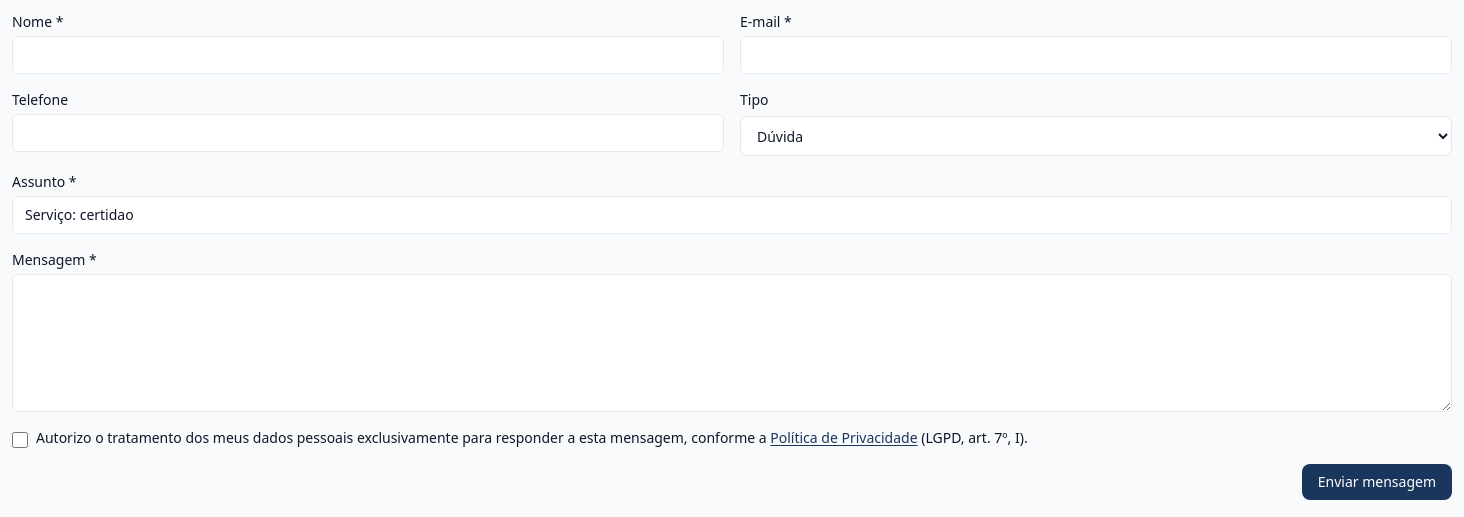
ContactForm › envia pelo proxy público com consentimento e mostra o protocolo
Clear the field labelled "Assunto *" at (732, 215), box [12,196,1452,234]
Type "Maria Silva" into the field labelled "Nome *" at (368, 55), box [12,36,724,74]
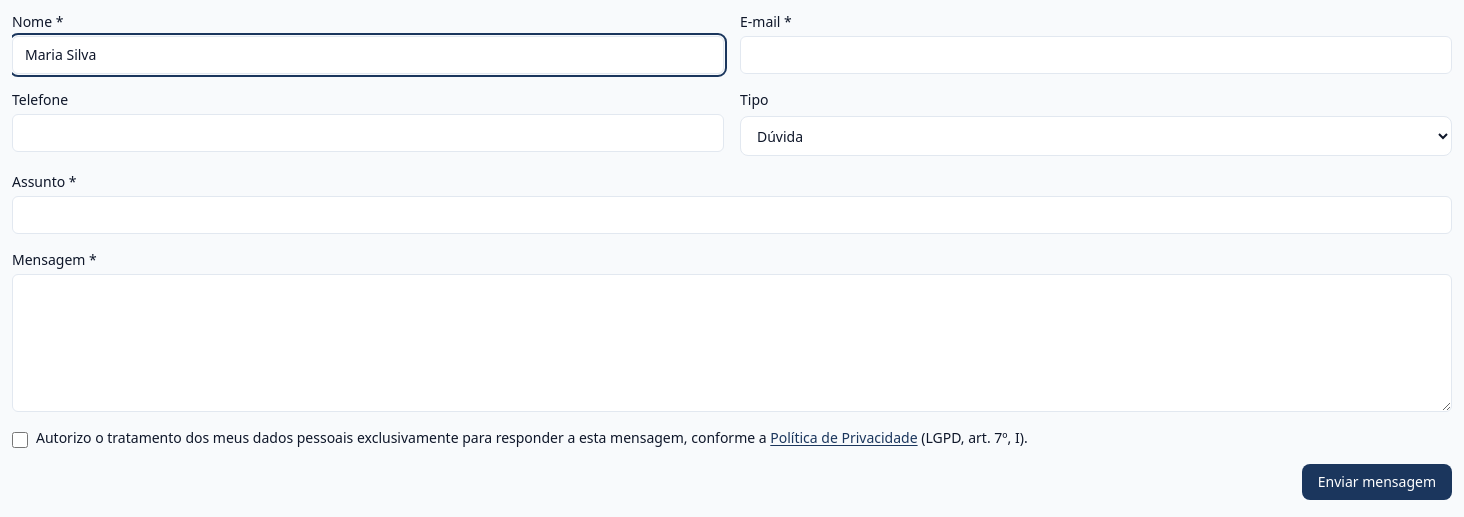
Type "maria@example.com" into the field labelled "E-mail *" at (1096, 55), box [740,36,1452,74]
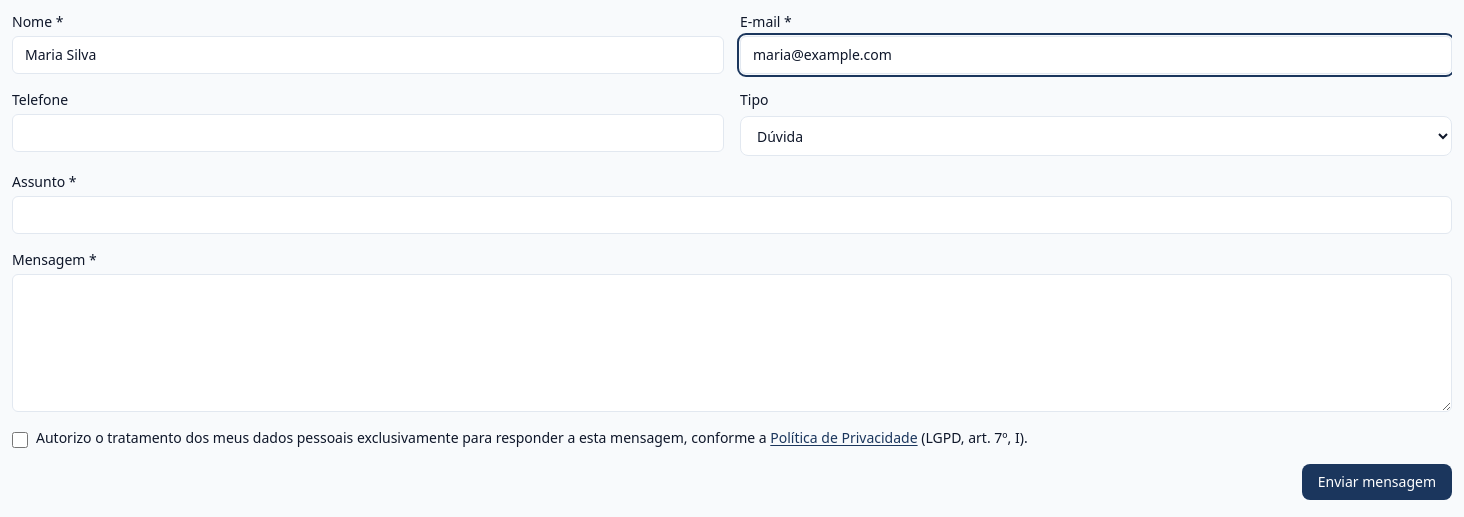
Type "Prazo do serviço" into the field labelled "Assunto *" at (732, 215), box [12,196,1452,234]
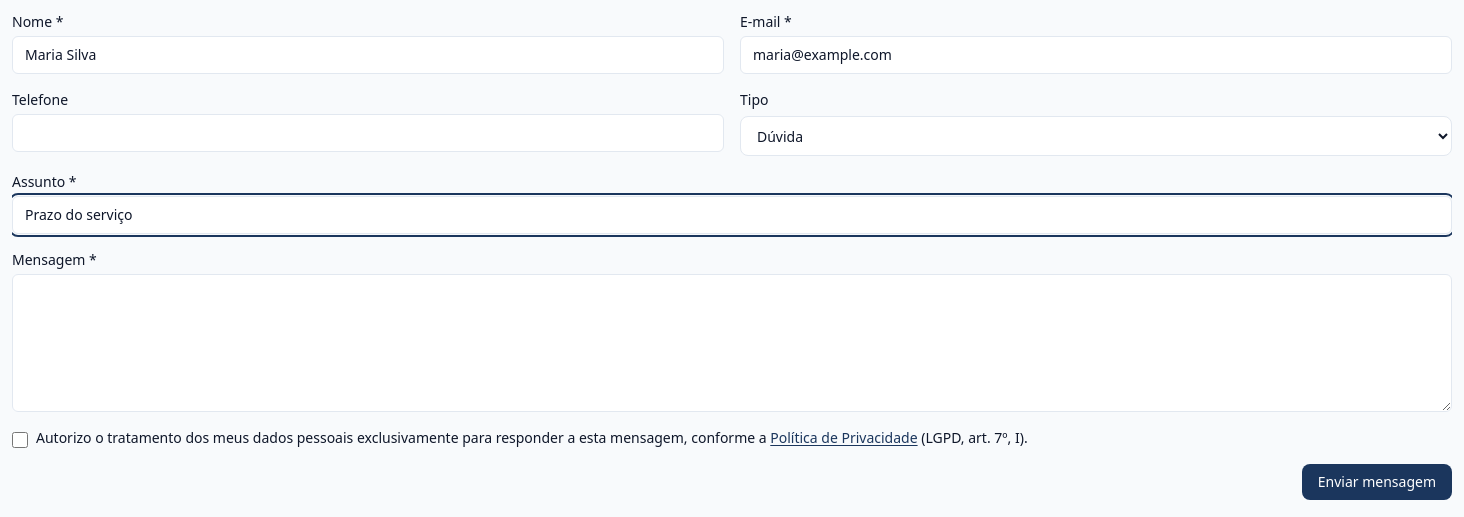
Type "Gostaria de saber o prazo." into the text box labelled "Mensagem *" at (732, 343), box [12,274,1452,412]
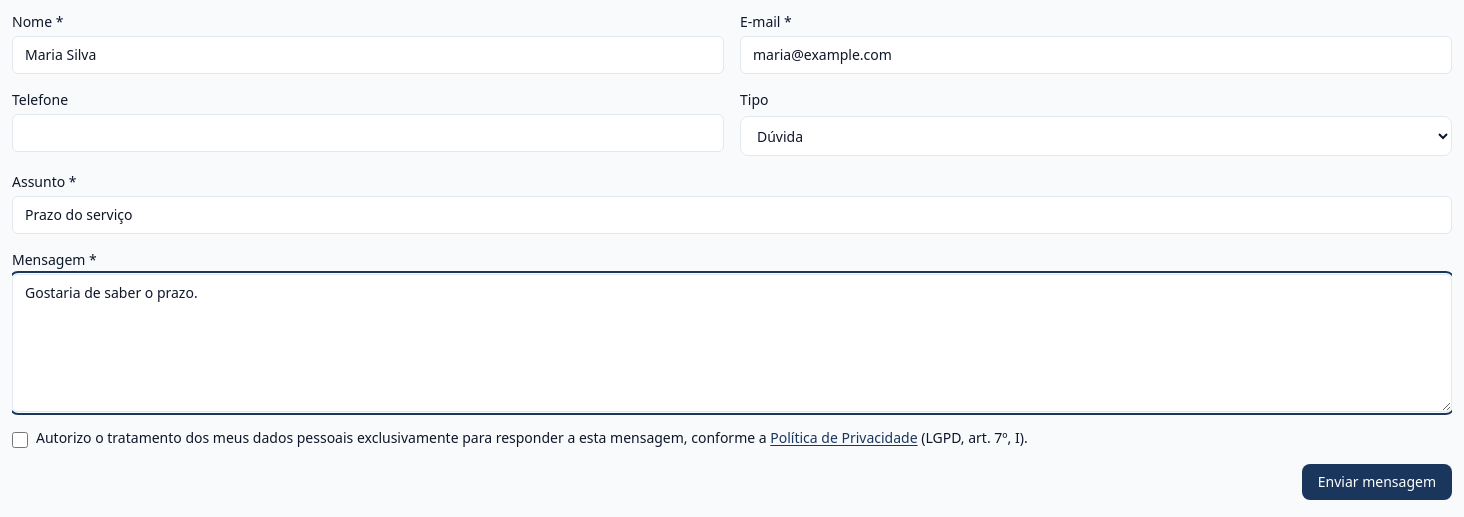
Click the checkbox labelled "Autorizo o tratamento" at (20, 440), box [12,432,28,448]
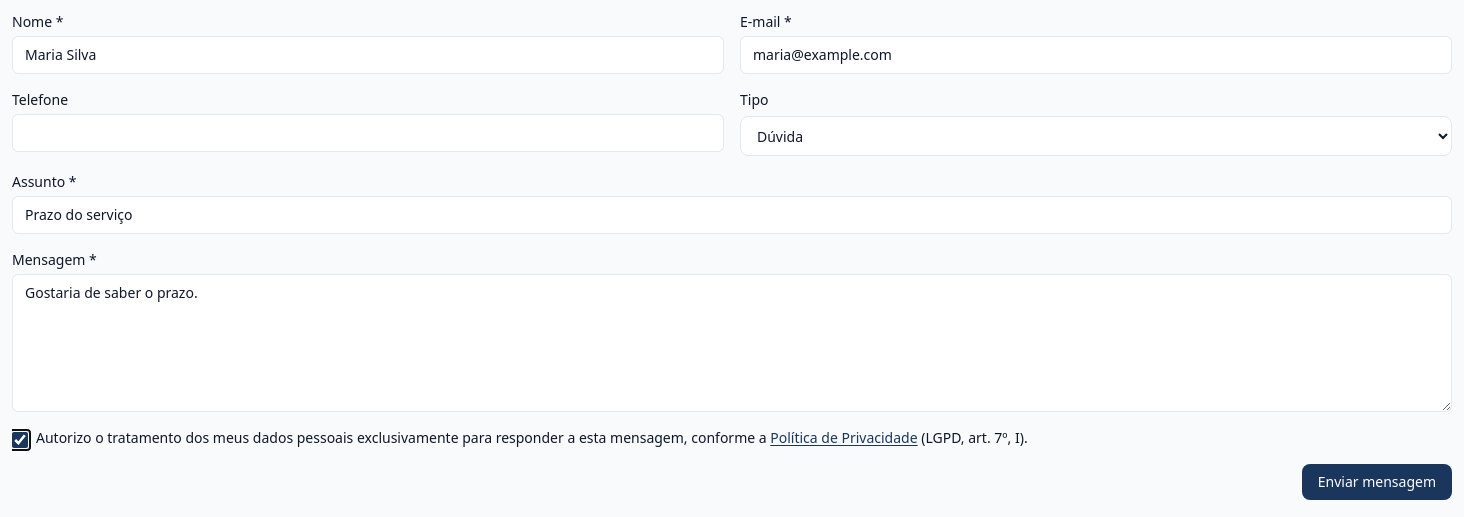
Click the button "Enviar mensagem" at (1377, 482), box [1302,464,1452,500]
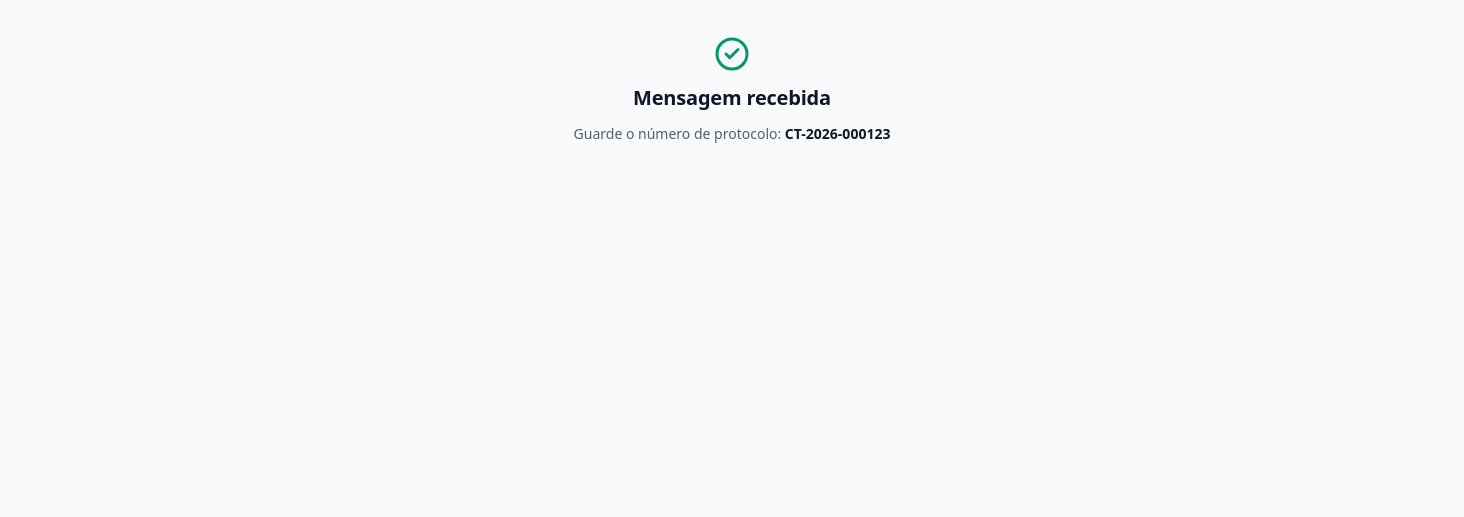
Check: the text "CT-2026-000123" is shown, box [785,124,890,143]
